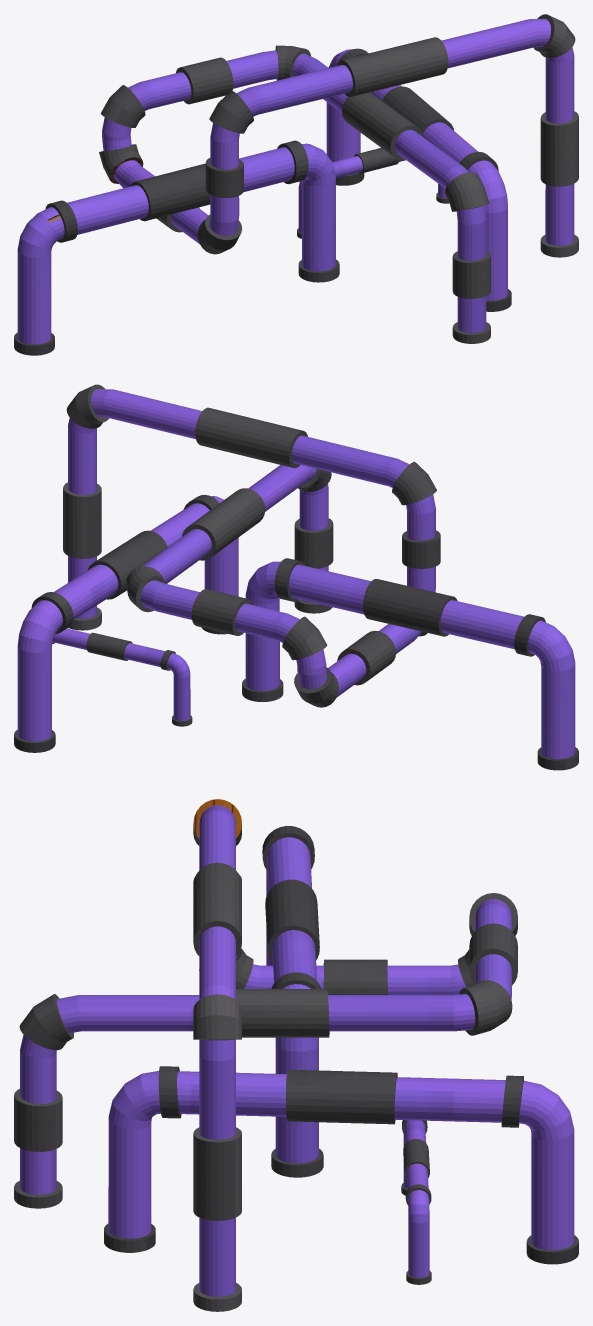
The model's file is PipesTextured.fbx.
3 renders of one model, top to bottom at view 1: azimuth 30°, elevation 25°; view 2: azimuth 150°, elevation 25°; view 3: azimuth 270°, elevation 25°, orthographic. The views are drawn at different scales.
Parts seen in each view (by area): view 1: Plane; view 2: Plane; view 3: Plane.
Boxes of the visible parts, x1,y1,x2,y2 form: Plane: (14,14,578,355); Plane: (14,384,578,770); Plane: (14,799,578,1311).
Bounding box in the file's own units: 941 × 412 × 680.
